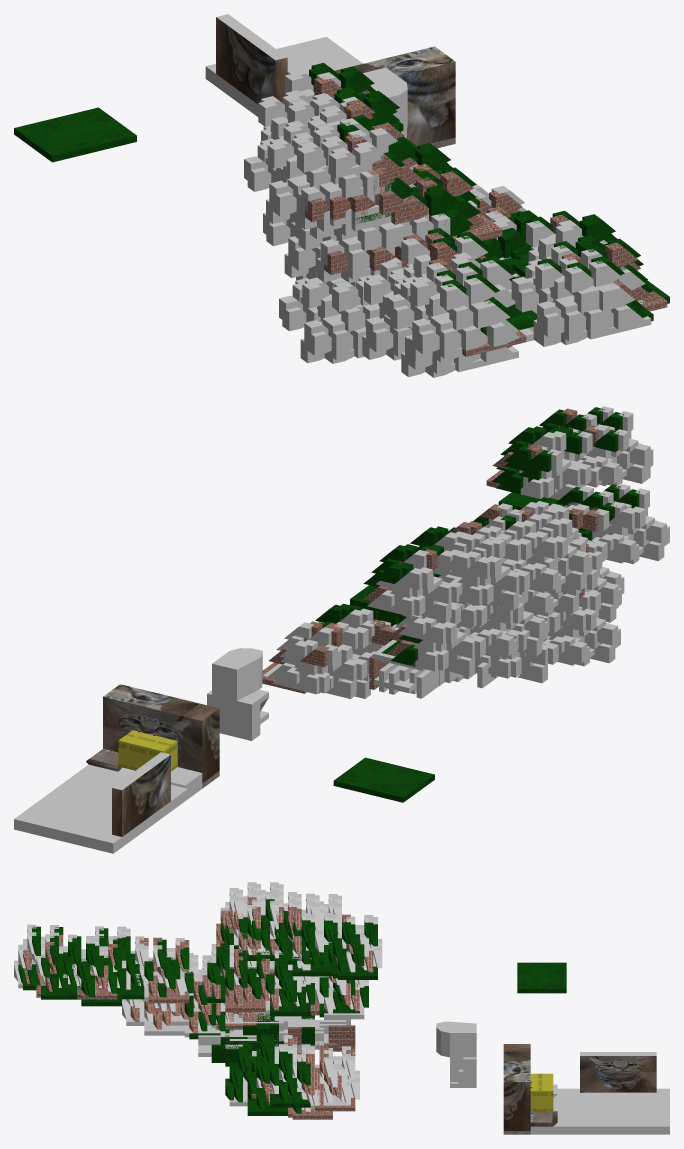
The picture shows the model from 3 angles, top to bottom: view 1: azimuth 30°, elevation 25°; view 2: azimuth 150°, elevation 25°; view 3: azimuth 270°, elevation 25°; orthographic projection. The views are drawn at different scales.
Visible parts, largest first — view 1: entity0_brush0, entity0_brush1852, entity5_brush0, entity0_brush7, entity0_brush17, entity0_brush374, entity0_brush1460, entity0_brush782, entity0_brush1121, entity0_brush1065, entity0_brush1067, entity0_brush318 (+3 smaller); view 2: entity0_brush7, entity0_brush0, entity0_brush1852, entity5_brush0, entity0_brush17, entity2_brush0, entity0_brush16; view 3: entity0_brush7, entity0_brush1852, entity0_brush0, entity5_brush0, entity0_brush17, entity2_brush0, entity0_brush19, entity0_brush421, entity0_brush1325, entity0_brush647, entity0_brush494, entity0_brush297 (+6 smaller).
Part boxes in pixels (x1=…): entity0_brush0: x1=334, y1=46, x2=455, y2=148; entity0_brush1852: x1=216, y1=14, x2=287, y2=104; entity5_brush0: x1=14, y1=107, x2=136, y2=162; entity0_brush7: x1=205, y1=37, x2=362, y2=116; entity0_brush17: x1=363, y1=67, x2=407, y2=129; entity0_brush374: x1=564, y1=266, x2=593, y2=292; entity0_brush1460: x1=297, y1=145, x2=325, y2=172; entity0_brush782: x1=332, y1=285, x2=360, y2=311; entity0_brush1121: x1=440, y1=283, x2=468, y2=310; entity0_brush1065: x1=464, y1=278, x2=497, y2=304; entity0_brush1067: x1=486, y1=322, x2=519, y2=347; entity0_brush318: x1=589, y1=260, x2=622, y2=286; entity0_brush7: x1=14, y1=764, x2=202, y2=853; entity0_brush0: x1=103, y1=684, x2=219, y2=788; entity0_brush1852: x1=112, y1=752, x2=170, y2=836; entity5_brush0: x1=333, y1=757, x2=434, y2=802; entity0_brush17: x1=212, y1=648, x2=262, y2=700; entity2_brush0: x1=118, y1=730, x2=177, y2=771; entity0_brush16: x1=207, y1=690, x2=260, y2=740; entity0_brush7: x1=530, y1=1088, x2=669, y2=1134; entity0_brush1852: x1=580, y1=1052, x2=656, y2=1092; entity0_brush0: x1=503, y1=1044, x2=530, y2=1134; entity5_brush0: x1=517, y1=962, x2=566, y2=993; entity0_brush17: x1=436, y1=1021, x2=476, y2=1057; entity2_brush0: x1=530, y1=1073, x2=553, y2=1111; entity0_brush19: x1=328, y1=1025, x2=355, y2=1051; entity0_brush421: x1=225, y1=993, x2=265, y2=1012; entity0_brush1325: x1=292, y1=959, x2=332, y2=976; entity0_brush647: x1=144, y1=1022, x2=184, y2=1035; entity0_brush494: x1=270, y1=1000, x2=310, y2=1016; entity0_brush297: x1=41, y1=984, x2=81, y2=999.
Bounding box in the file's own units: 1040 × 576 × 2336.
